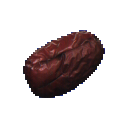ng: (20, 26, 110, 102)
